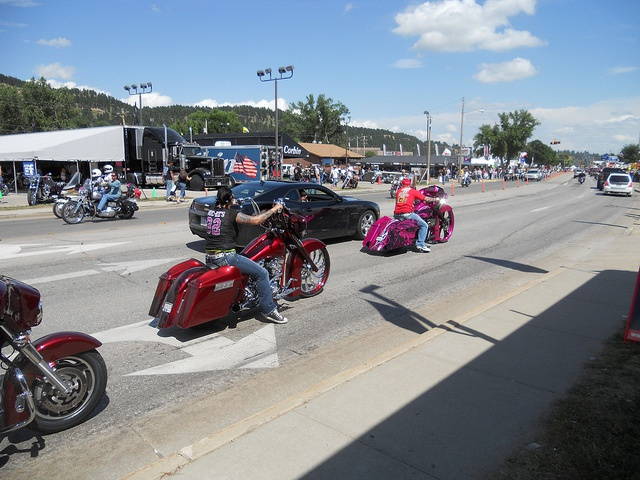non-vehicle: (147, 196, 329, 330), (0, 270, 107, 440), (360, 184, 454, 253), (60, 187, 139, 224), (26, 176, 64, 206), (52, 194, 77, 218), (341, 175, 358, 189), (461, 171, 471, 187), (594, 171, 599, 179), (579, 176, 583, 184)
